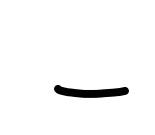minus: (53, 83, 130, 100)
